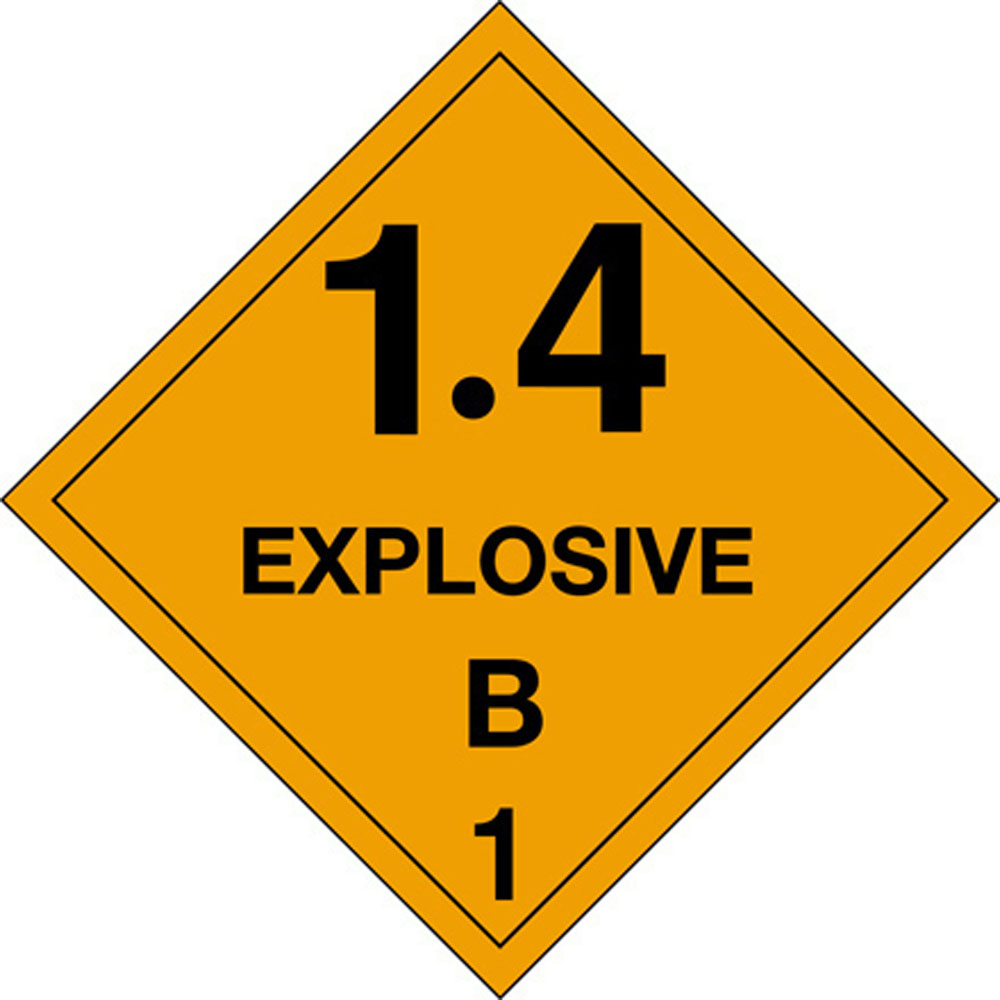Explosive: (50, 34, 992, 970)
